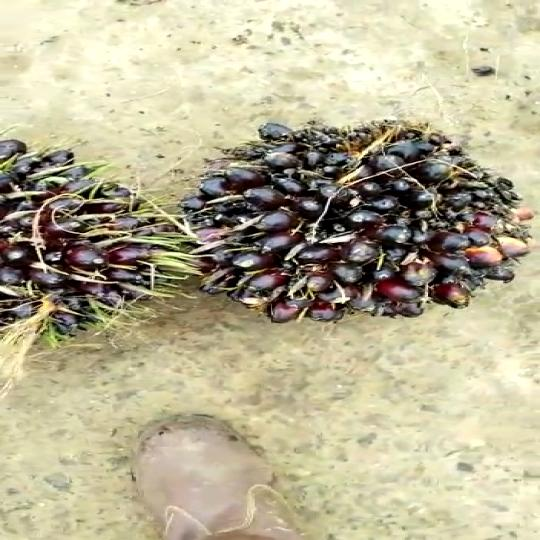mentah: (182, 112, 538, 322), (0, 126, 201, 354)
